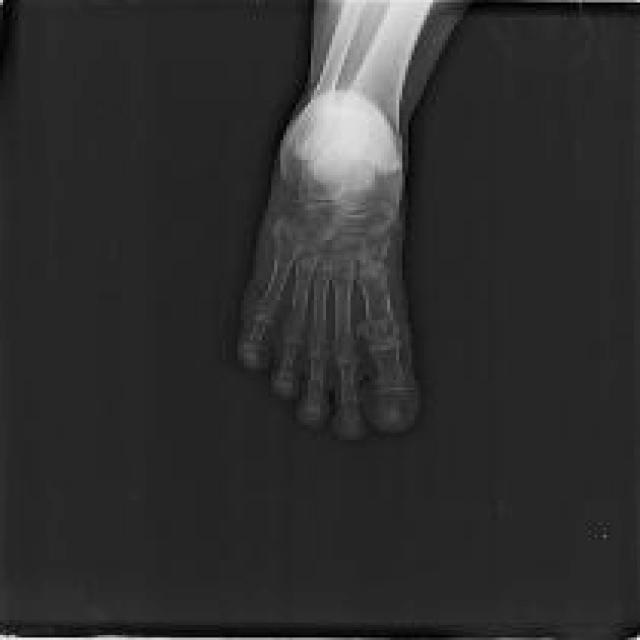normal: (245, 0, 432, 438)
